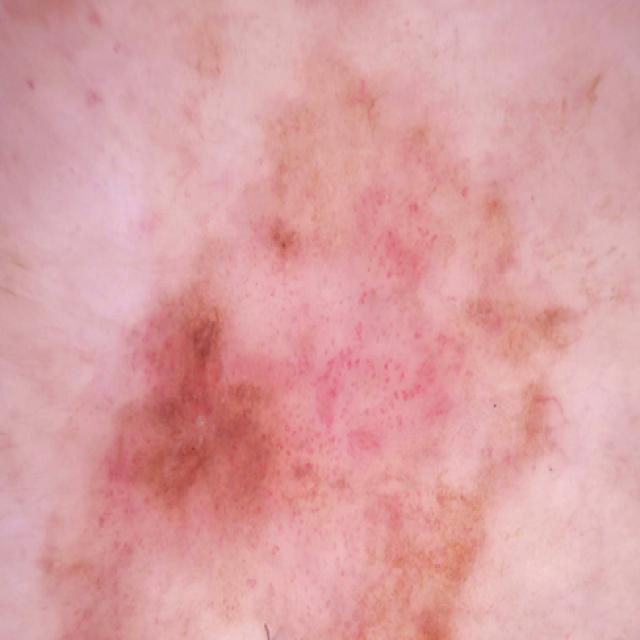Carcinoma: (40, 40, 601, 640)
